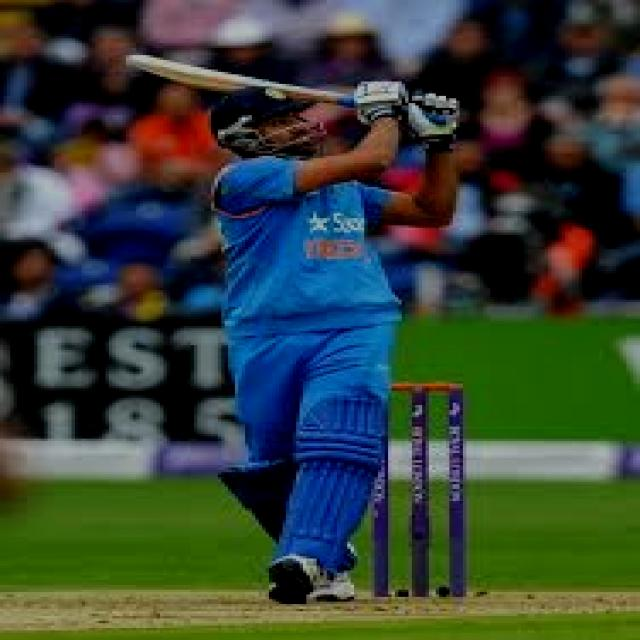toe: (126, 51, 162, 70)
